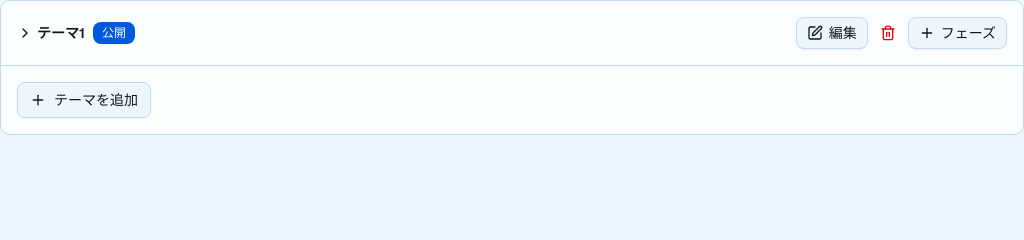
ContentTree expand state › トグル後に sessionStorage があっても再描画ループにならない
What coordinates should you click on to do the following:
click the button "テーマ1"
I would click on:
 (51, 33)
Its box is x1=17 y1=23 x2=85 y2=43.
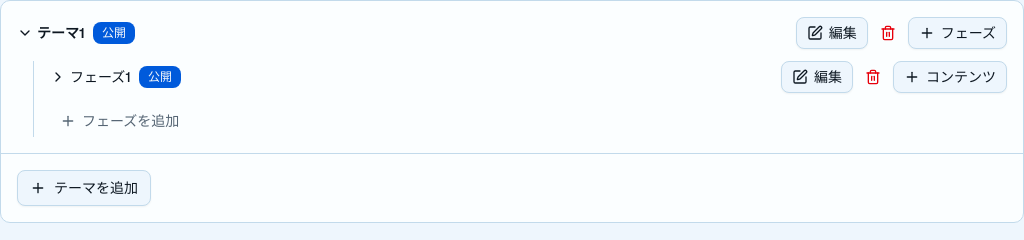
Expected: the button "テーマ1" is expanded
What coordinates should you click on to do the following:
click the button "テーマ1"
I would click on:
 (51, 33)
Its box is x1=17 y1=23 x2=85 y2=43.
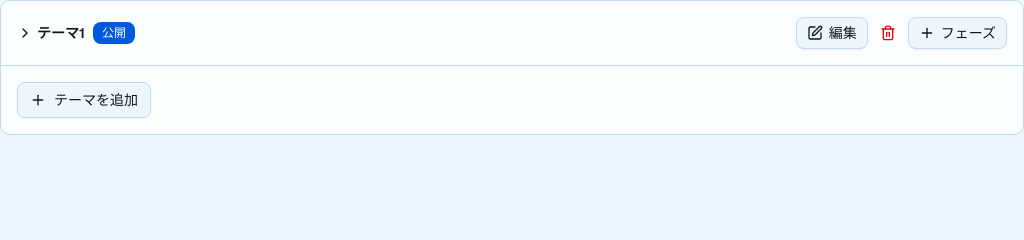
Expected: the button "テーマ1" is collapsed, x1=17 y1=23 x2=85 y2=43
